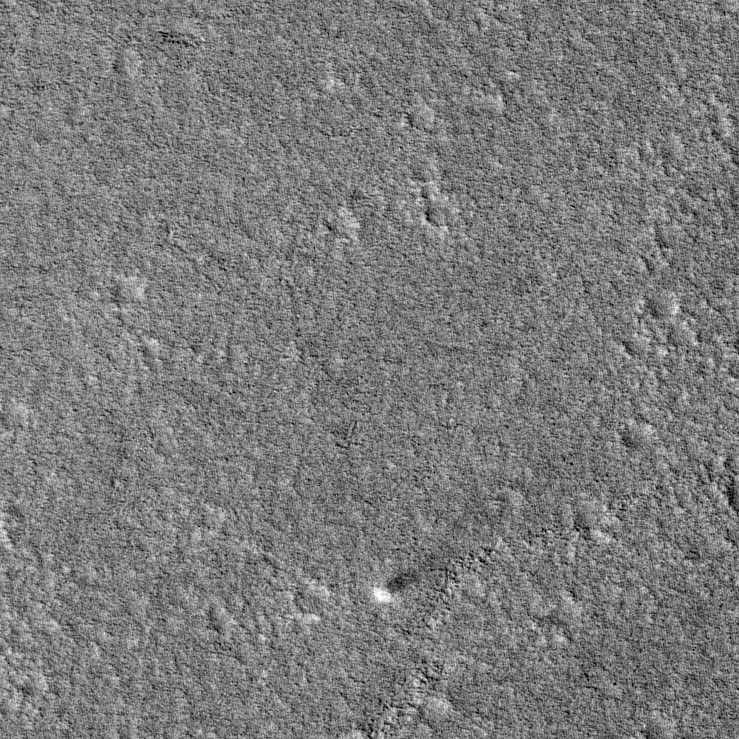dust_devil: (373, 566, 422, 604)
